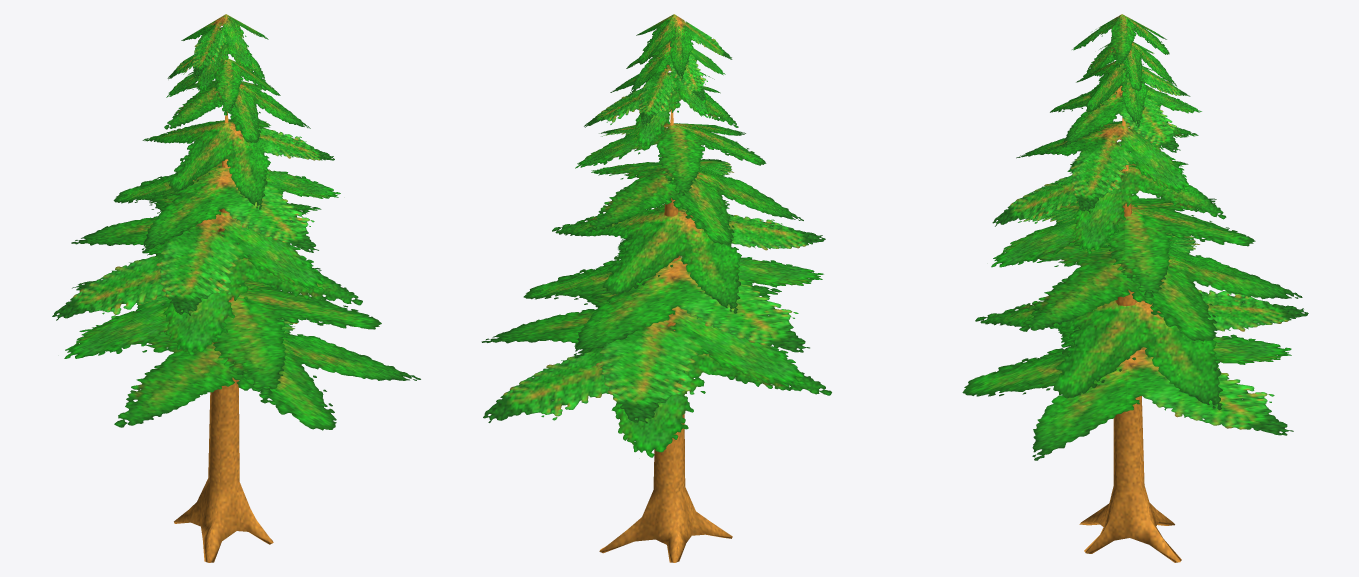
File: fir4.gltf
3 views of the same model, side by side, from view 1: azimuth 30°, elevation 25°; view 2: azimuth 150°, elevation 25°; view 3: azimuth 270°, elevation 25° (orthographic).
Size of the model in its own units: 2.03 by 2.72 by 2.03.
1 material, 1 textured.
